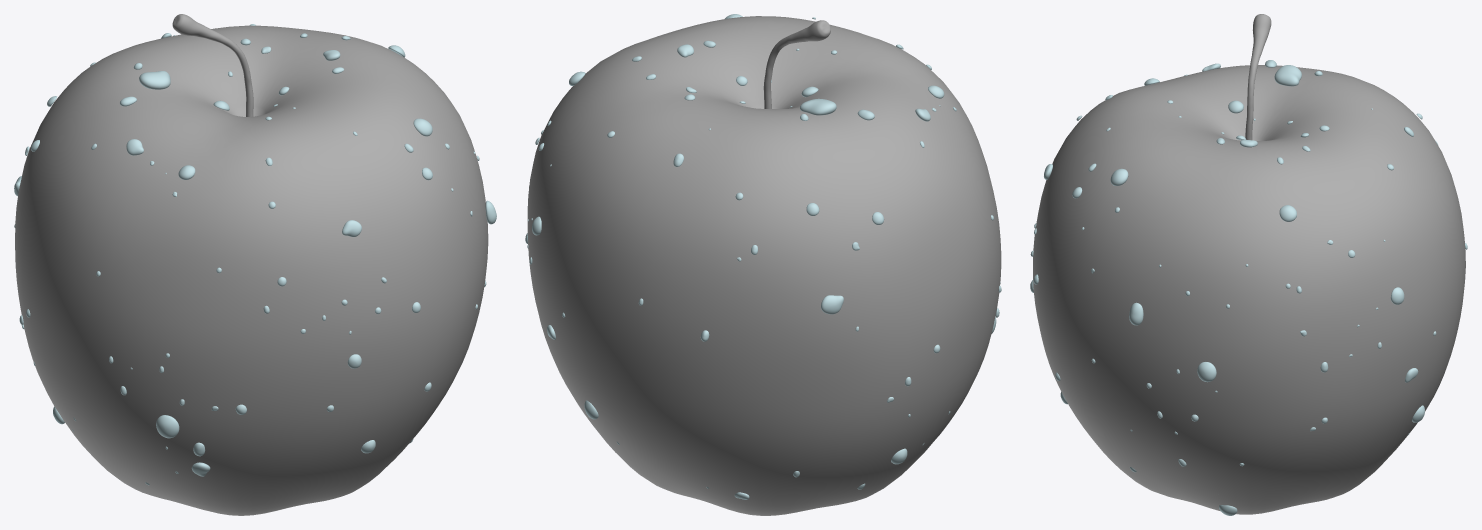
Rendered from AppleGreenWhole.fbx.
3 views of the same model, side by side, from view 1: azimuth 30°, elevation 25°; view 2: azimuth 150°, elevation 25°; view 3: azimuth 270°, elevation 25° (orthographic). The views are drawn at different scales.
Parts seen in each view (by area): view 1: apleGreenBodyWhole, appleGreenWaterWhole; view 2: apleGreenBodyWhole, appleGreenWaterWhole; view 3: apleGreenBodyWhole, appleGreenWaterWhole.
Part boxes in pixels (x1=…): apleGreenBodyWhole: x1=15, y1=14, x2=488, y2=515; appleGreenWaterWhole: x1=14, y1=24, x2=496, y2=485; apleGreenBodyWhole: x1=527, y1=16, x2=1001, y2=515; appleGreenWaterWhole: x1=525, y1=14, x2=1001, y2=499; apleGreenBodyWhole: x1=1033, y1=14, x2=1465, y2=514; appleGreenWaterWhole: x1=1030, y1=60, x2=1467, y2=515.
Size of the model in its own units: 8.78 by 9.45 by 8.63.
